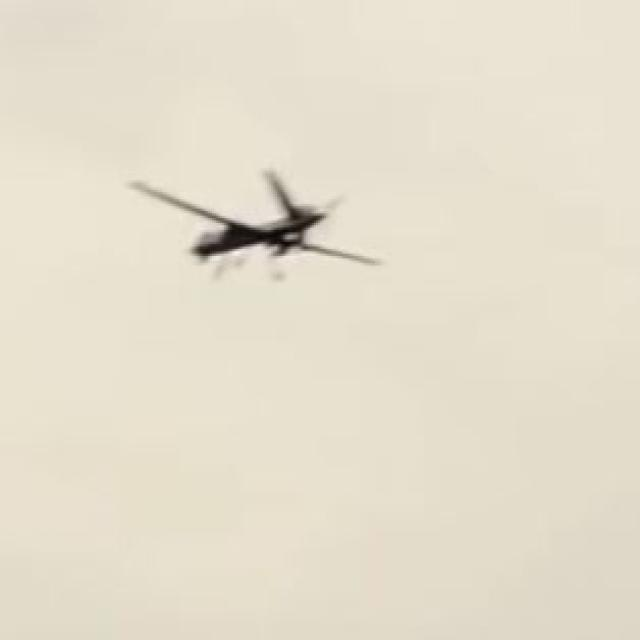iha: (123, 197, 382, 258)
